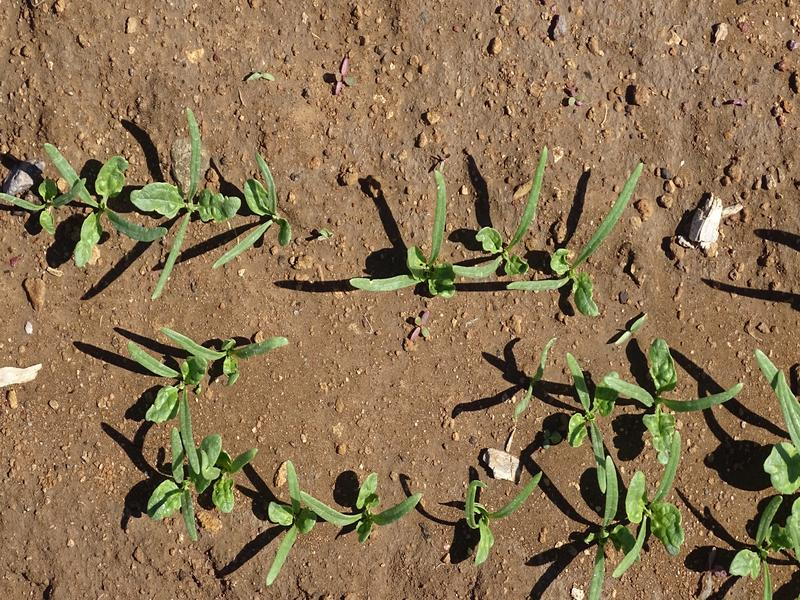Espinaca: (554, 361, 800, 587), (348, 156, 643, 313), (13, 134, 306, 278), (128, 326, 256, 546), (262, 461, 415, 585), (469, 476, 541, 553)
